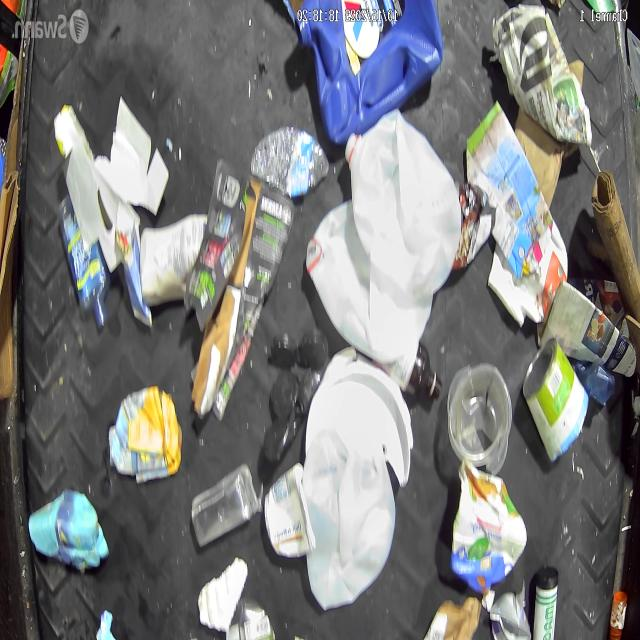can: (522, 336, 589, 463), (487, 589, 532, 640)
milk_jug: (343, 106, 462, 298), (304, 199, 434, 363), (302, 426, 396, 611)
non_white_jug: (293, 0, 443, 145)
plastic_bottle: (250, 128, 330, 198)
